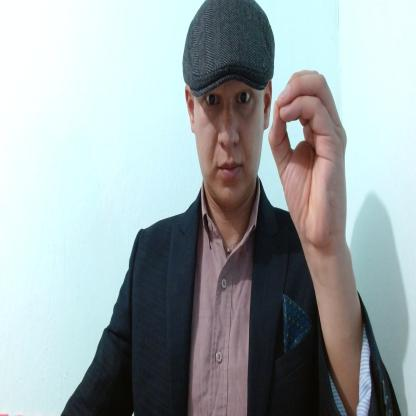O: (269, 67, 349, 251)
